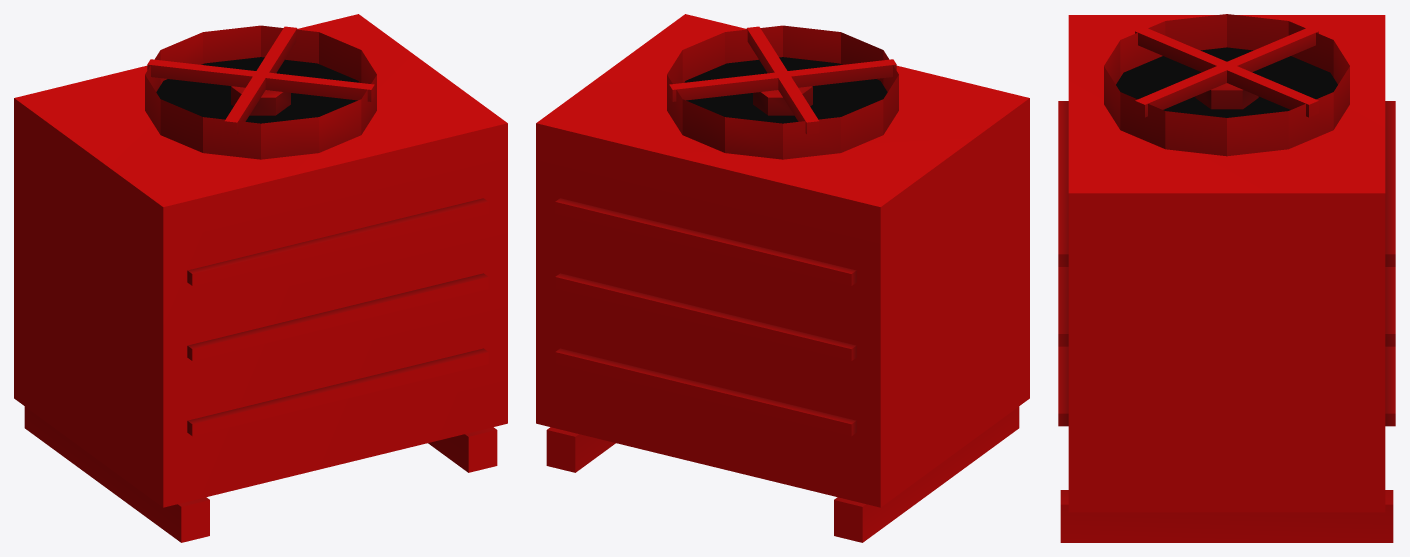
The model's file is ac_unit.glb.
3 views of the same model, side by side, from view 1: azimuth 30°, elevation 25°; view 2: azimuth 150°, elevation 25°; view 3: azimuth 270°, elevation 25° (orthographic). The views are drawn at different scales.
Visible parts, largest first — view 1: ac_unit; view 2: ac_unit; view 3: ac_unit.
Part boxes in pixels (box(x1,y1,x2,y2)): ac_unit: box(14, 14, 507, 542); ac_unit: box(536, 14, 1029, 542); ac_unit: box(1058, 14, 1395, 542).
Bounding box in the file's own units: 1.2 × 1.24 × 0.96.
